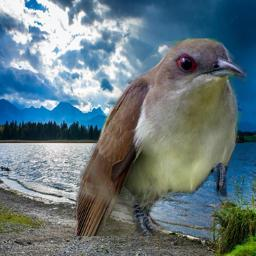Cuckoo: (75, 38, 247, 236)
